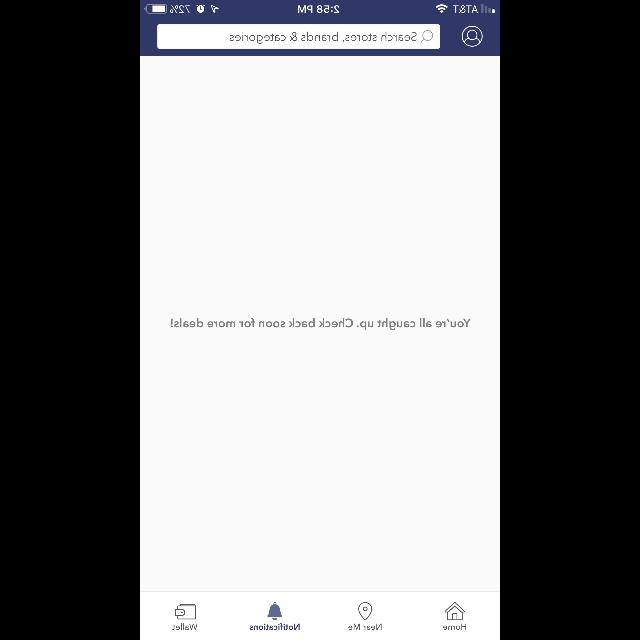icon: (462, 27, 482, 48), (444, 602, 464, 620), (266, 602, 282, 620), (175, 604, 195, 618), (358, 602, 372, 620), (421, 31, 433, 43)
input: (158, 25, 440, 49)
text: (171, 318, 471, 330), (229, 32, 416, 44), (250, 624, 300, 630), (348, 624, 382, 630), (172, 624, 198, 630), (442, 624, 466, 630)
uppertaskbar: (140, 0, 500, 14)
